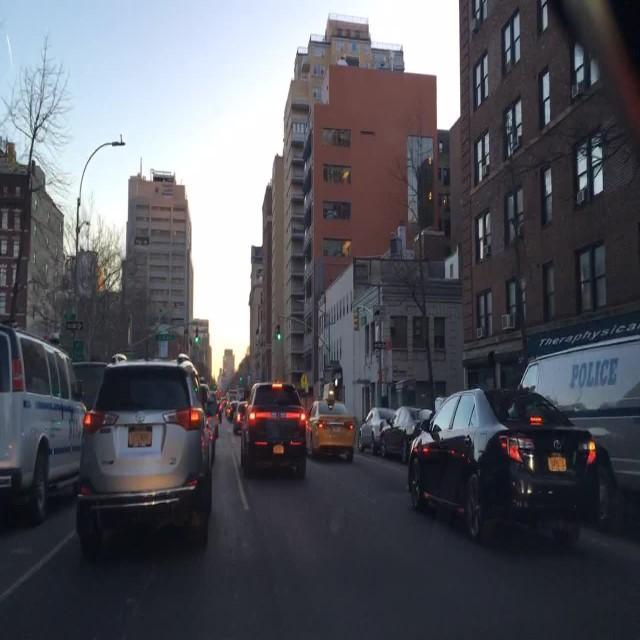normal: (3, 289, 640, 596)
